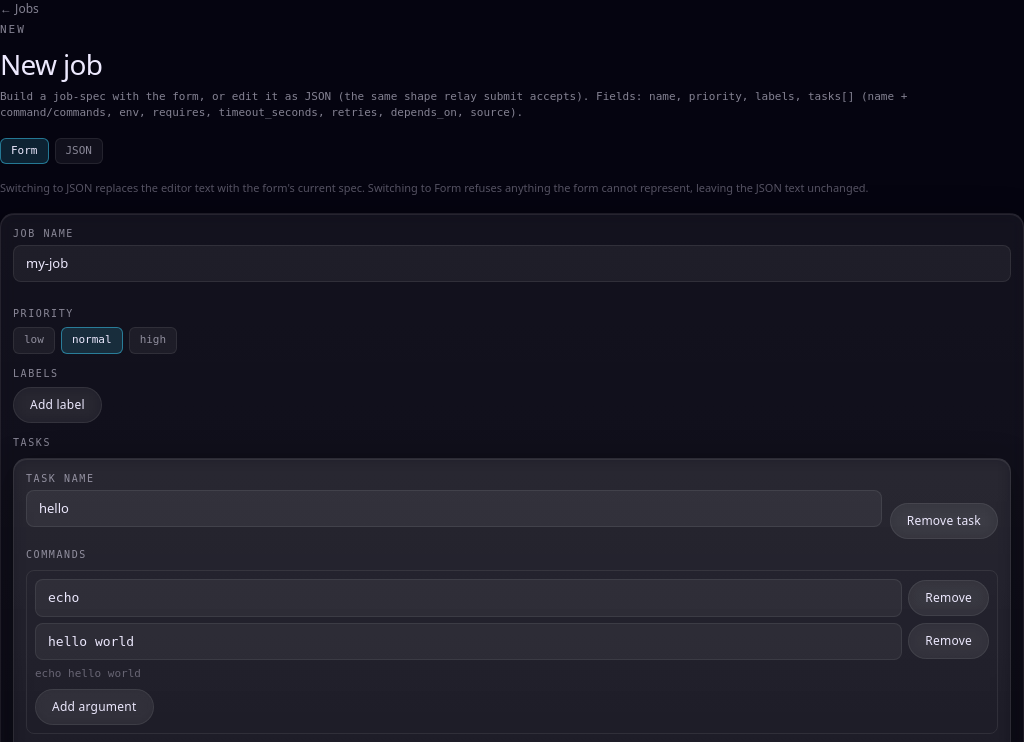
an unknown key refuses the switch back and leaves the text byte-identical
The image size is (1024, 742).
Click the button "JSON": click(79, 151) [54,138,103,164]
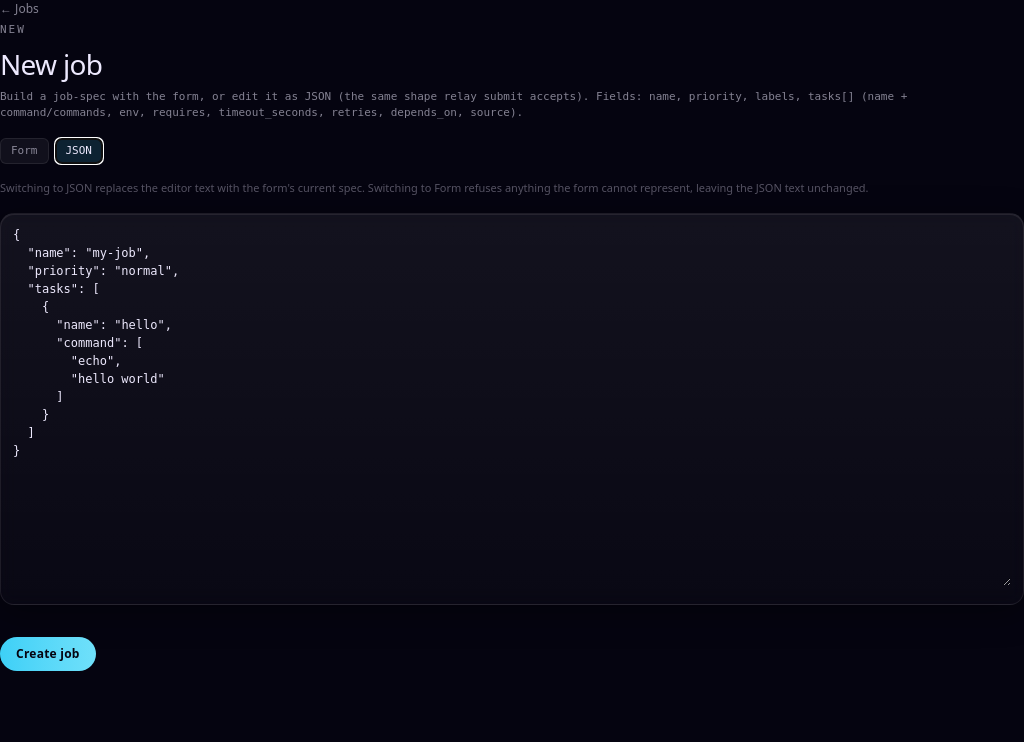
Clear the text box named "Job spec JSON": (512, 406) [13,226,1011,586]
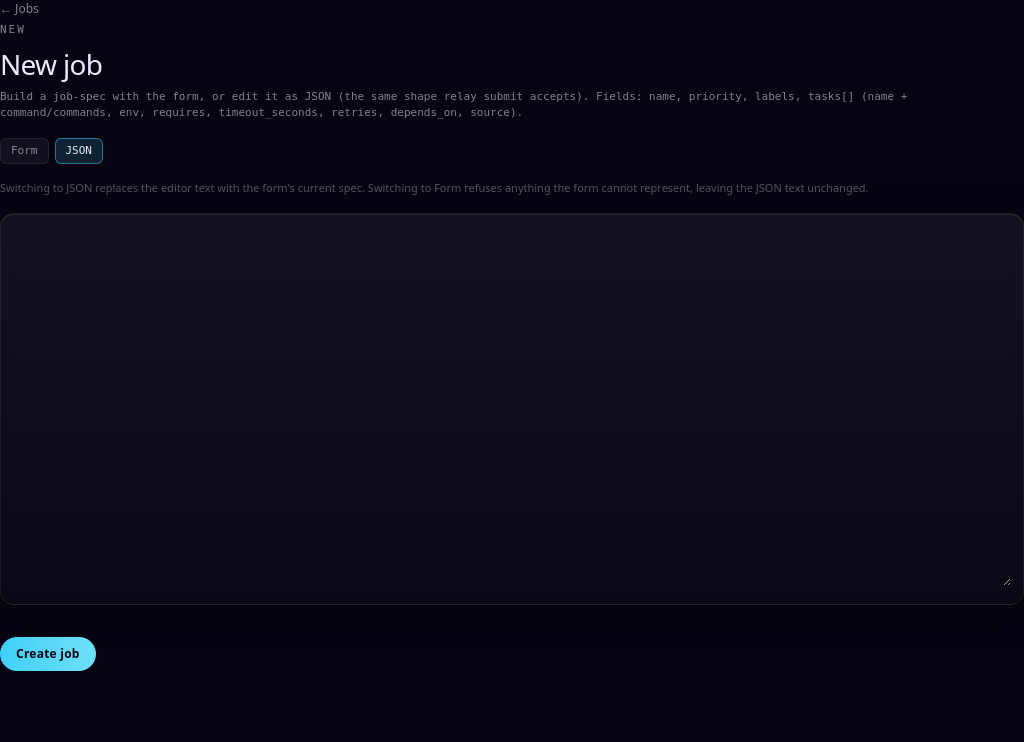
Type keys "{\"name\":\"j\",\"tasks\":[{\"name\":\"t\",\"command\":[\"echo\"],\"widget\":1}]}"
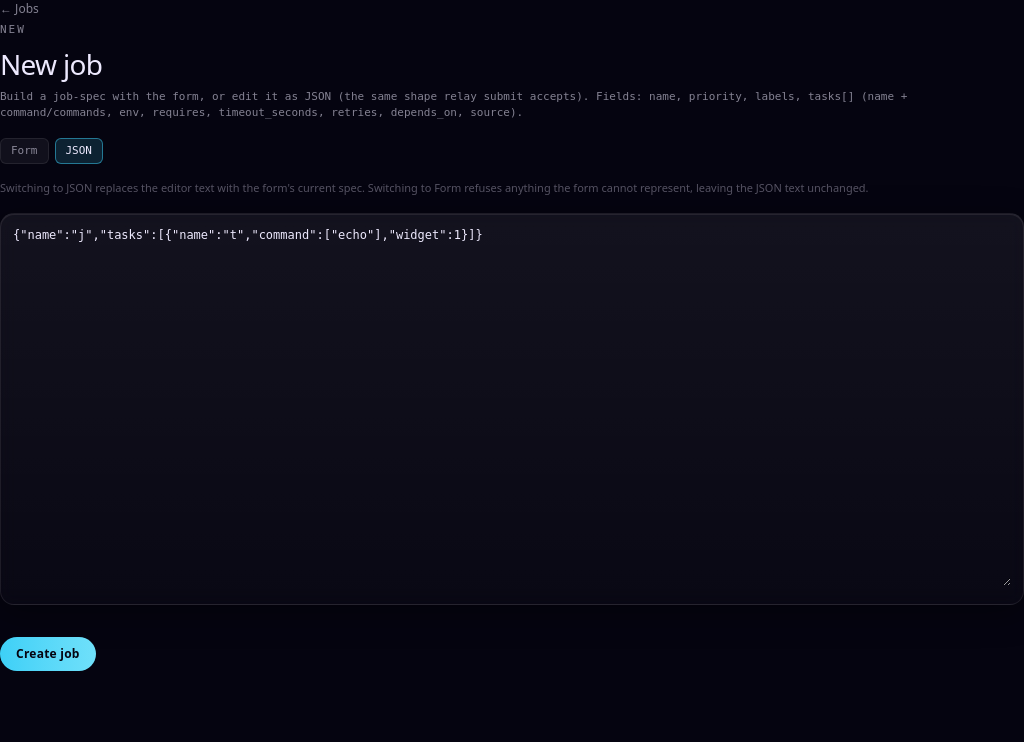
Click the button "Form": click(24, 151) [0,138,48,164]
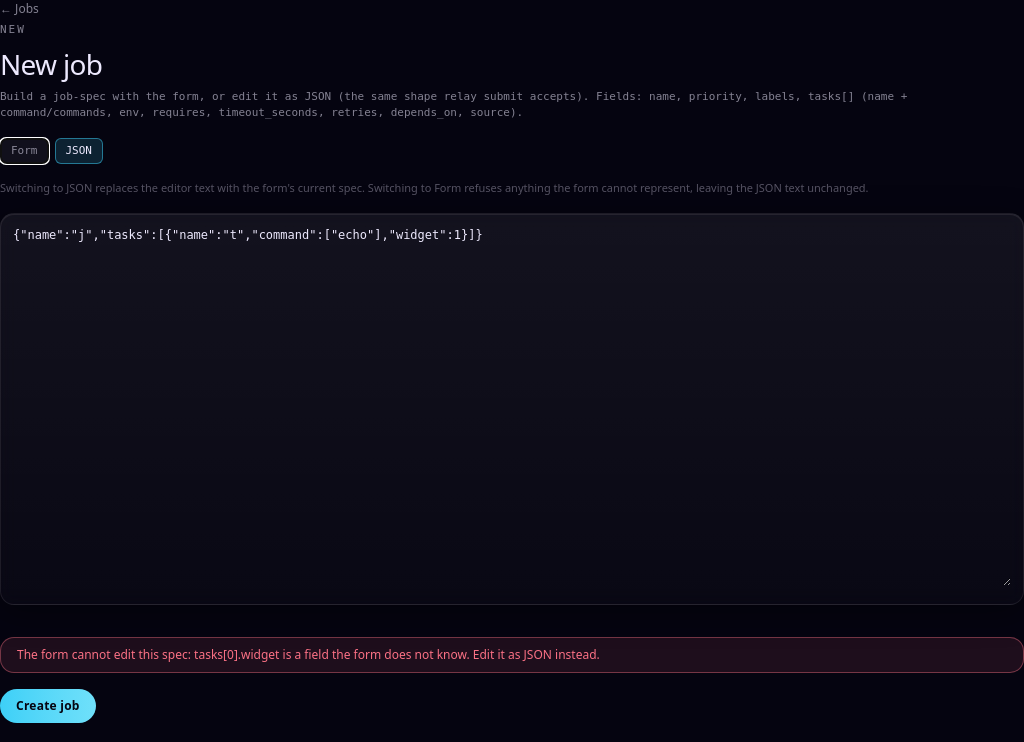
Now the text box named "Job spec JSON" holds "{\"name\":\"j\",\"tasks\":[{\"name\":\"t\",\"command\":[\"echo\"],\"widget\":1}]}", box [13,226,1011,586]
Now the message shows "tasks[0].widget", box [17,646,600,662]
